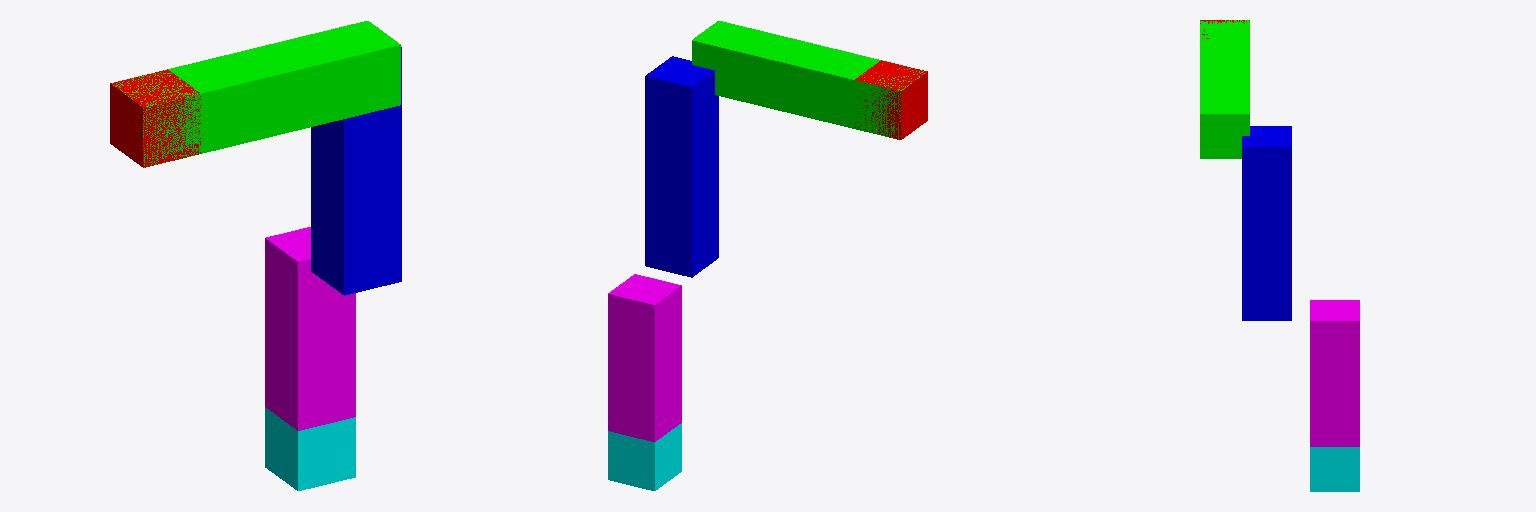
The robot description file, URDF, robot "leg3dof":
<?xml version="1.0"?>
<robot name="leg3dof">

<!-- NOTE: This urdf models a left leg-->

<!-- Example of a link with visual data
  <link name="link_name">
    <visual>
      <origin xyz="X Y Z" rpy="ROLL PITCH YAW"/>
      <geometry>
        <box size="X_size Y_size Z_size"/>
      </geometry>
      <material name="color_name">
        <color rgba="R G B A"/>
      </material>
    </visual>
  </link>
-->

  <!--
    The origin of each link is moved along its axis by half of its
    x-size so that the link visually rotates about the tip of the box.
    This is necessary because visual boxes are positioned about their center.
  -->


  <!-- Link Definitions -->


  <!-- First link -->
  <link name="hip">
    <visual>
      <origin xyz="0.025 0 0" rpy="0 0 0"/>
      <geometry>
        <box size="0.05 0.05 0.05"/>
      </geometry>
      <material name="red">
        <color rgba="1 0 0 1"/>
      </material>
    </visual>
  </link>

  <!-- Second link -->
  <link name="thigh">
    <visual>
      <origin xyz="0.11175 0 0" rpy="0 0 0"/>
      <geometry>
        <box size="0.2235 0.05 0.05"/>
      </geometry>
      <material name="green">
        <color rgba="0 1 0 1"/>
      </material>
    </visual>
  </link>

  <!-- Third link -->
  <link name="calf">
    <visual>
      <origin xyz="0 0 -0.097125" rpy="0 0 0"/>
      <geometry>
        <box size="0.05 0.05 0.19425"/>
      </geometry>
      <material name="blue">
        <color rgba="0 0 1 1"/>
      </material>
    </visual>
  </link>

  <!-- End-effector -->
  <link name="foot">
    <visual>
      <origin xyz="0 0 -0.07" rpy="0 0 0"/>
      <geometry>
        <box size="0.05 0.05 0.140"/>
      </geometry>
      <material name="purple">
        <color rgba="1 0 1 1"/>
      </material>
    </visual>
  </link>

  <!-- Represents the very tip of the last link -->
  <link name="toe">
    <visual>
      <origin xyz="0 0 -0.025" rpy="0 0 0"/>
      <geometry>
        <box size="0.05 0.05 0.05"/>
      </geometry>
      <material name="cyan">
        <color rgba="0 1 1 1"/>
      </material>
    </visual>
  </link>


  <!-- Joint Definitions -->


  <!-- Joint 1 -->
  <joint name="hip_roll" type="revolute">
    <parent link="hip"/>
    <child  link="thigh"/>

    <origin xyz="0 0 0" rpy="0 0 0"/>

    <axis xyz="1 0 0"/>

    <limit lower="-3.14" upper="3.14" effort="1" velocity="1"/>

  </joint>

  <!-- Joint 2 -->
  <joint name="hip_pitch" type="revolute">
    <parent link="thigh"/>
    <child  link="calf"/>

    <origin xyz="0.2235 0.04241 0" rpy="0 0 0"/>

    <axis xyz="0 1 0"/>
    
    <limit lower="-3.14" upper="3.14" effort="1" velocity="1"/>

  </joint>

  <!-- Joint 3 -->
  <joint name="knee_pitch" type="revolute">
    <parent link="calf"/>
    <child  link="foot"/>

    <origin xyz="0 0.069 -0.19425" rpy="0 0 0"/>

    <axis xyz="0 1 0"/>
    
    <limit lower="-3.14" upper="3.14" effort="1" velocity="1"/>

  </joint>

  <!-- Fixed joint that represents the final length of last link -->
  <joint name="footToToe" type="fixed">
    <parent link="foot"/>
    <child  link="toe"/>

    <origin xyz="0 0 -0.140"/>
  </joint>

</robot>

--- What the picture shows (computed from the rendered views, not written in the file) ---
3 views of the same robot in one strip: view 1: azimuth 30°, elevation 25°; view 2: azimuth 150°, elevation 25°; view 3: azimuth 270°, elevation 25° (orthographic).
Robot: leg3dof — 5 links, 4 joints (3 revolute, 1 fixed); root link hip; default pose: every joint at zero.
Visible links, largest first — view 1: thigh, calf, foot, hip, toe; view 2: calf, thigh, foot, toe, hip; view 3: calf, foot, thigh, toe.
Link boxes in pixels (x1=…): thigh: x1=112, y1=21, x2=400, y2=167; calf: x1=311, y1=47, x2=401, y2=295; foot: x1=265, y1=227, x2=355, y2=430; hip: x1=110, y1=69, x2=200, y2=167; toe: x1=265, y1=407, x2=355, y2=490; calf: x1=645, y1=56, x2=718, y2=277; thigh: x1=692, y1=21, x2=924, y2=139; foot: x1=608, y1=274, x2=681, y2=441; toe: x1=608, y1=423, x2=681, y2=490; hip: x1=855, y1=60, x2=927, y2=139; calf: x1=1242, y1=126, x2=1291, y2=320; foot: x1=1310, y1=300, x2=1359, y2=446; thigh: x1=1200, y1=20, x2=1249, y2=158; toe: x1=1310, y1=447, x2=1359, y2=491.
Size in the robot's own frame: 0.2485 by 0.1614 by 0.4093 metres.
Geometry: primitives only (box / cylinder / sphere), no mesh files.
